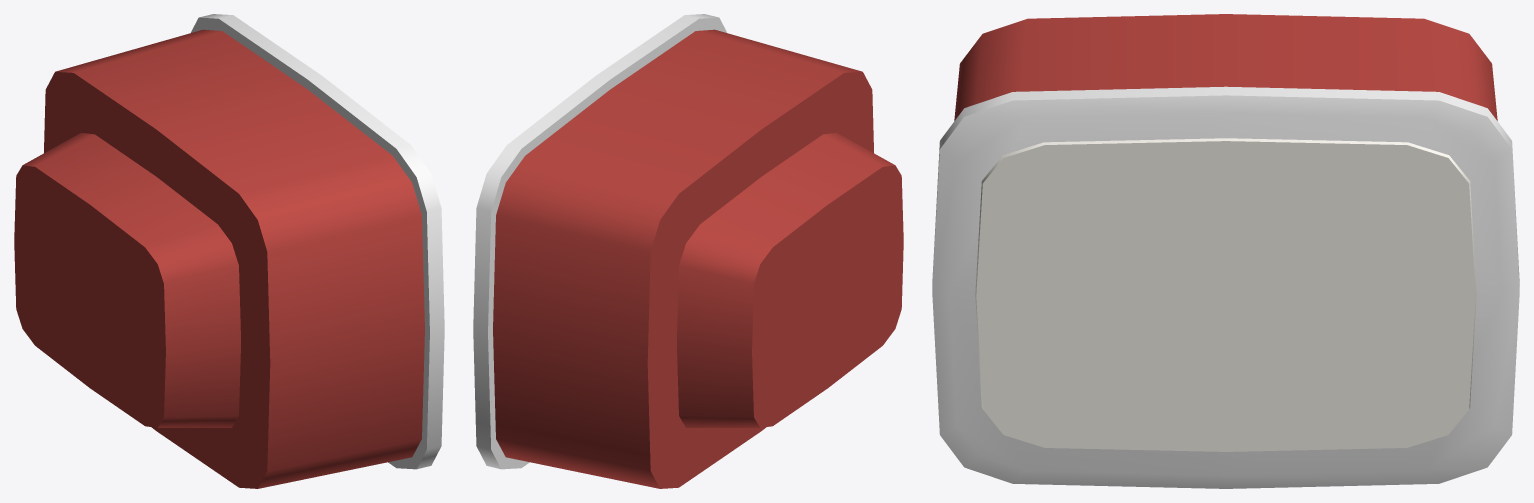
File: square_lod1.glb
3 views of the same model, side by side, from view 1: azimuth 30°, elevation 25°; view 2: azimuth 150°, elevation 25°; view 3: azimuth 270°, elevation 25° (orthographic). The views are drawn at different scales.
Parts seen in each view (by area): view 1: square_lod1; view 2: square_lod1; view 3: square_lod1.
Boxes of the visible parts, left/top/right/bottom form: square_lod1: left=14, top=14, right=444, bottom=488; square_lod1: left=473, top=14, right=903, bottom=488; square_lod1: left=932, top=14, right=1519, bottom=488.
Size of the model in its own units: 1.3 by 1.7 by 2.3.
